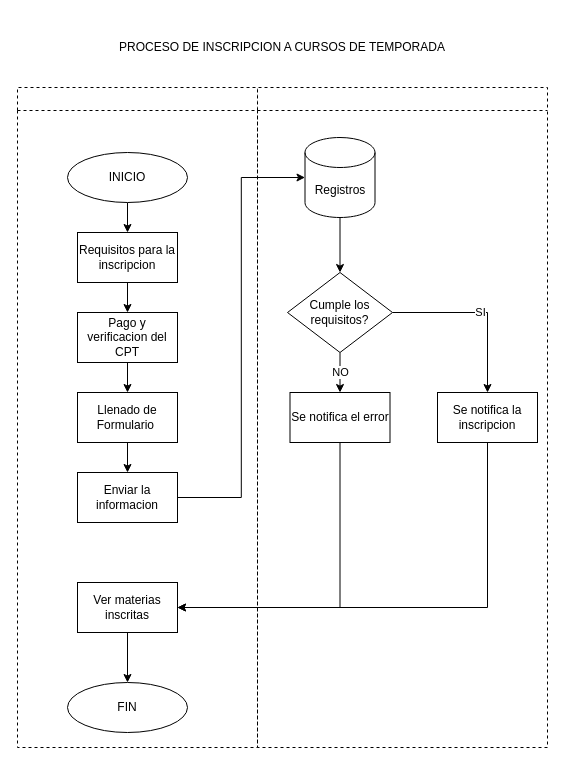
The diagram is 565 pixels wide and 765 high, and some of its shapes have lost their labels. Each missing label, with the centre of its shape:
"ESTUDIANTE" belongs at point 137,417.
"KARDEX" belongs at point 402,417.
